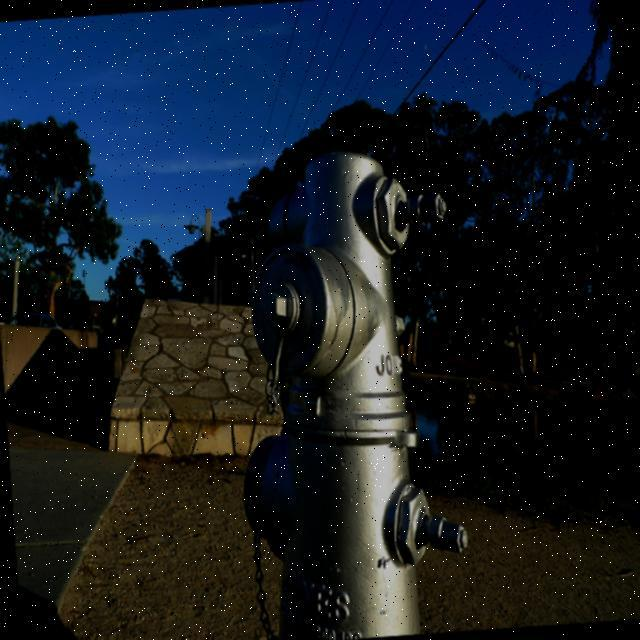fire_hydrant: (217, 142, 474, 640)
